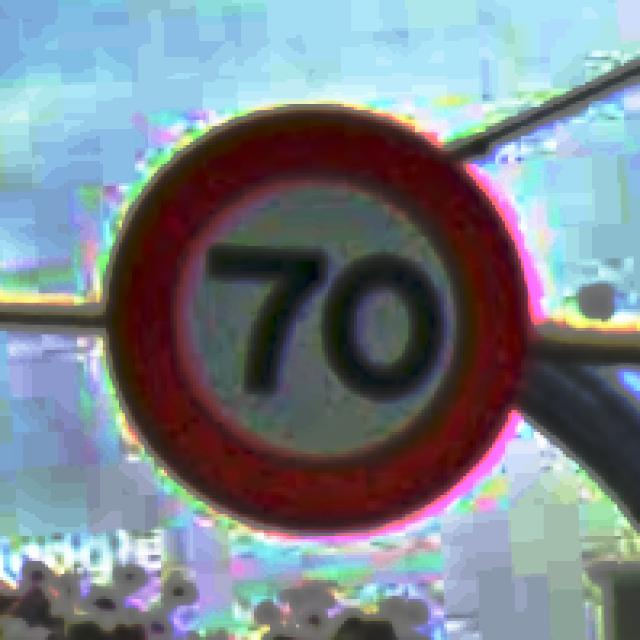max70: (103, 104, 534, 533)
